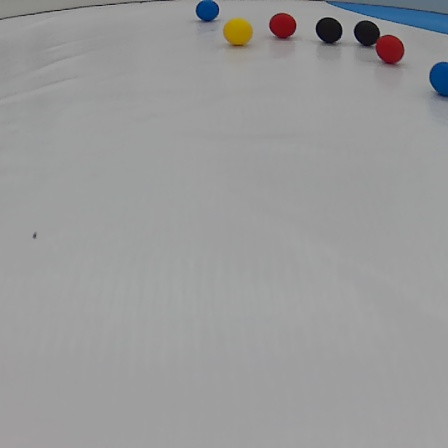black: (315, 18, 344, 43), (354, 19, 382, 43)
blue: (426, 60, 448, 100), (194, 1, 219, 22)
blue_base: (322, 1, 448, 38)
red: (376, 35, 406, 64), (271, 13, 299, 39)
yellow: (222, 17, 255, 47)
